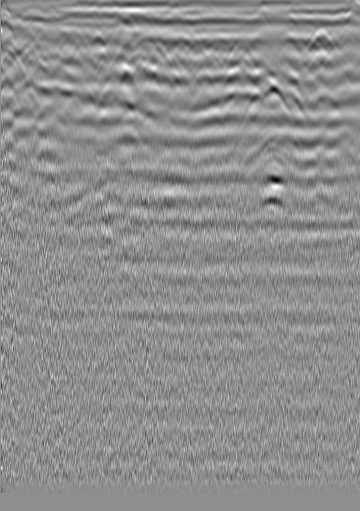가스: (254, 168, 293, 209)
상수: (0, 42, 20, 62)
오수: (312, 26, 332, 46)
우수: (170, 35, 190, 55)
